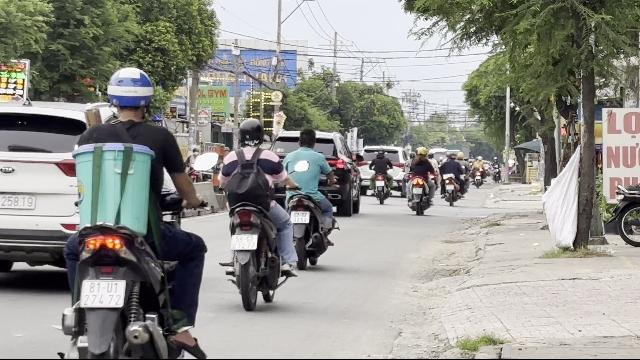helmet: (104, 66, 156, 122), (236, 117, 266, 149)
licenseplate: (80, 278, 124, 306), (231, 234, 257, 250), (290, 210, 310, 224)
motorcyclist: (49, 66, 210, 356), (214, 115, 294, 307), (282, 127, 338, 268)
nohelmet: (297, 126, 317, 148)
